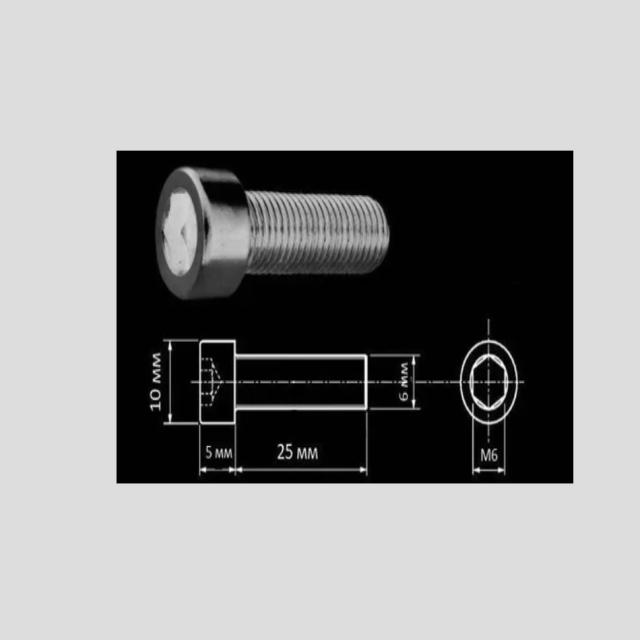marking_line: (236, 465, 366, 473), (167, 342, 174, 422), (411, 356, 416, 409), (201, 466, 233, 472), (475, 468, 504, 474)
numeric: (148, 390, 162, 403), (275, 441, 284, 461), (204, 445, 213, 462), (285, 441, 292, 461), (148, 405, 164, 412), (398, 392, 409, 402), (491, 449, 498, 464)
